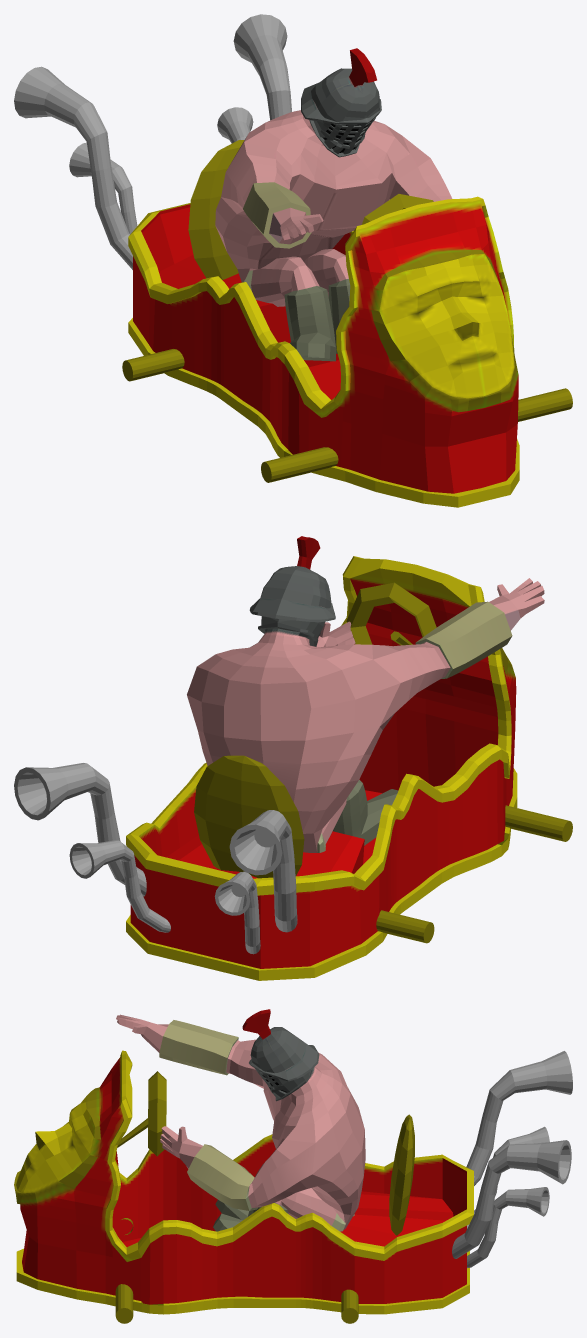
The model's file is gladiVacile_000530.obj.
3 renders of one model, top to bottom at view 1: azimuth 30°, elevation 25°; view 2: azimuth 150°, elevation 25°; view 3: azimuth 270°, elevation 25°, orthographic. The views are drawn at different scales.
Parts seen in each view (by area): view 1: GladiChasis_GladiChasisH, Gadiador_Gladiador_H.001, GladiTubos_GladiTubosH, GladiVolante_GladiVolanteH; view 2: GladiChasis_GladiChasisH, Gadiador_Gladiador_H.001, GladiTubos_GladiTubosH, GladiVolante_GladiVolanteH; view 3: GladiChasis_GladiChasisH, Gadiador_Gladiador_H.001, GladiTubos_GladiTubosH, GladiVolante_GladiVolanteH.
Boxes of the visible parts, <box> form: GladiChasis_GladiChasisH: <box>128,196,519,507</box>; Gadiador_Gladiador_H.001: <box>215,48,452,361</box>; GladiTubos_GladiTubosH: <box>14,14,291,269</box>; GladiVolante_GladiVolanteH: <box>122,140,572,482</box>; GladiChasis_GladiChasisH: <box>126,556,517,980</box>; Gadiador_Gladiador_H.001: <box>187,536,544,852</box>; GladiTubos_GladiTubosH: <box>14,763,297,954</box>; GladiVolante_GladiVolanteH: <box>194,582,572,943</box>; GladiChasis_GladiChasisH: <box>14,1050,473,1314</box>; Gadiador_Gladiador_H.001: <box>116,1009,365,1231</box>; GladiTubos_GladiTubosH: <box>452,1051,572,1268</box>; GladiVolante_GladiVolanteH: <box>115,1071,414,1323</box>.
Bounding box in the file's own units: 5.46 × 5.75 × 10.78.
